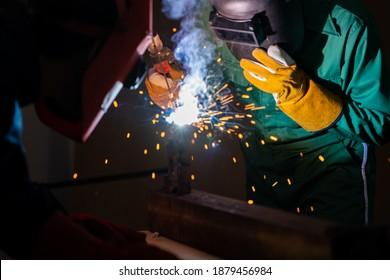gloves: (240, 43, 344, 135), (146, 61, 184, 109)
